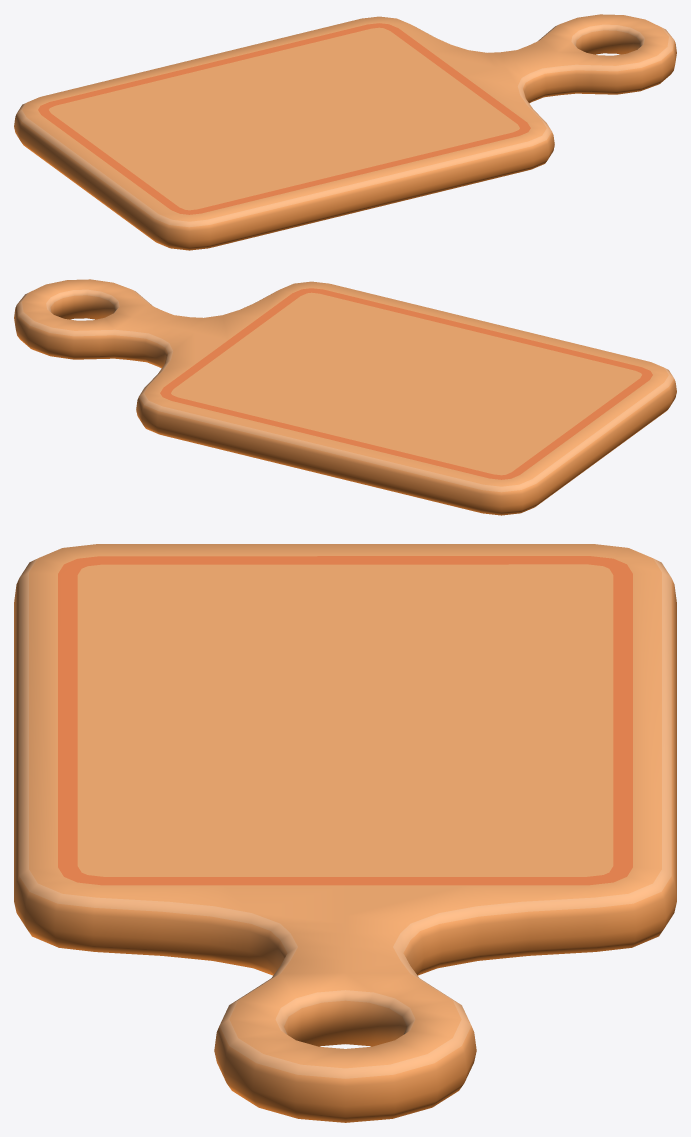
The model's file is board_002.fbx.
3 views of the same model, one above another, from view 1: azimuth 30°, elevation 25°; view 2: azimuth 150°, elevation 25°; view 3: azimuth 270°, elevation 25° (orthographic). The views are drawn at different scales.
Visible parts, largest first — view 1: board_002; view 2: board_002; view 3: board_002.
Part boxes in pixels (x1,y1,x2,y2): board_002: (14,14,676,250); board_002: (14,279,676,515); board_002: (14,544,676,1122).
Size of the model in its own units: 44.27 by 23.1 by 2.02.
